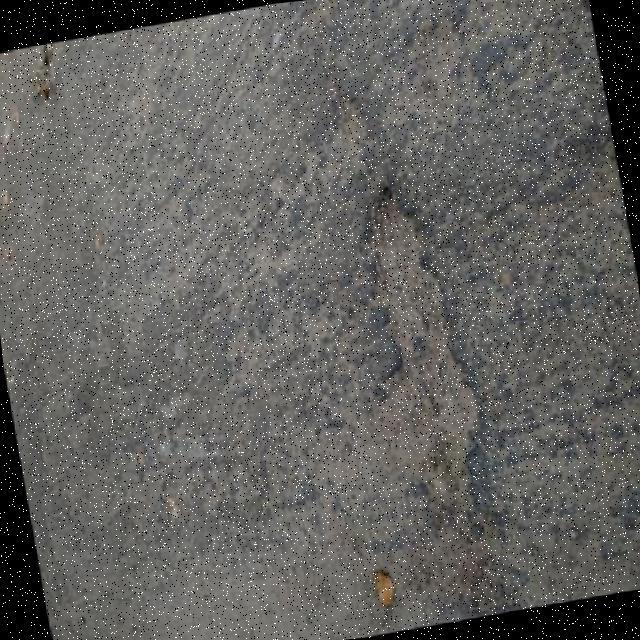Pothole: (371, 188, 481, 531)
